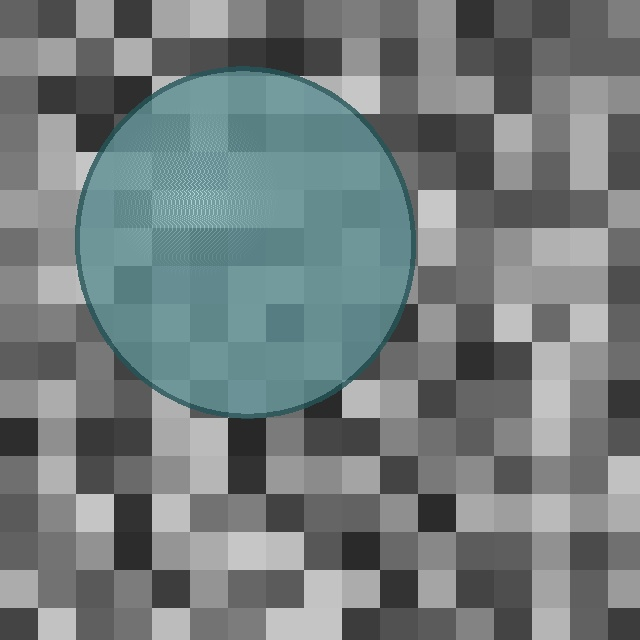lens: (77, 69, 413, 415)
